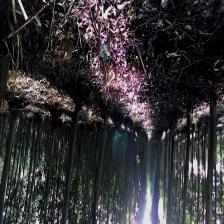trunk: (0, 106, 20, 224), (62, 105, 81, 221), (92, 113, 108, 221), (206, 94, 218, 222), (182, 110, 192, 221)
